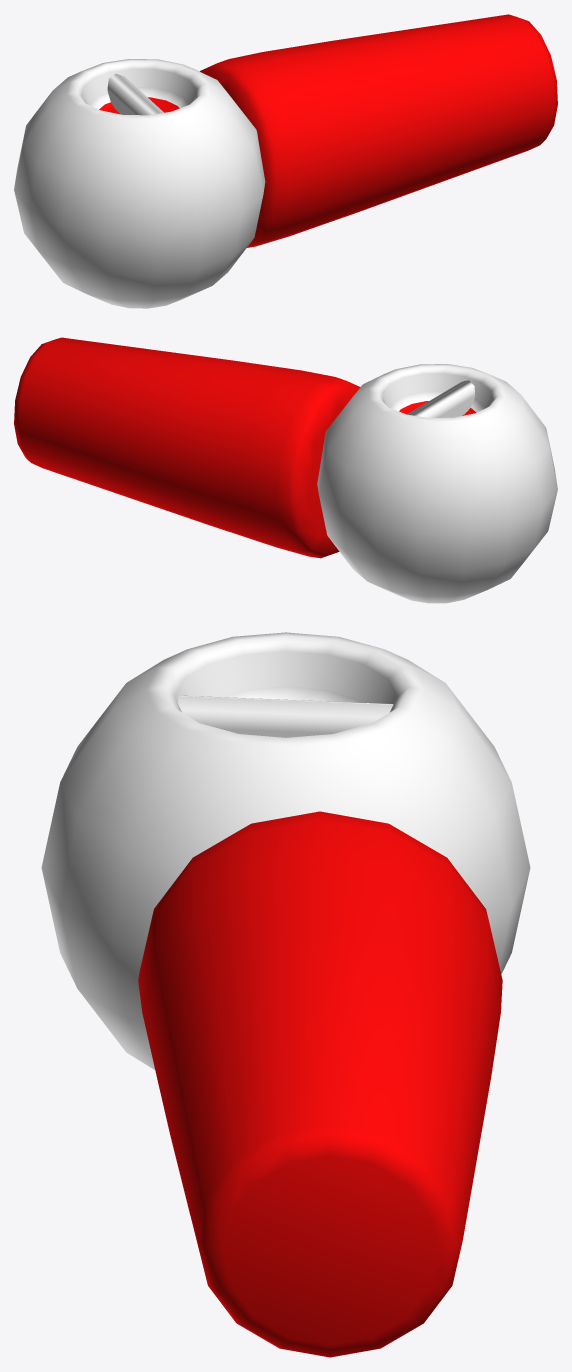
Rendered from Roboy_UpperArm.fbx.
3 views of the same model, one above another, from view 1: azimuth 30°, elevation 25°; view 2: azimuth 150°, elevation 25°; view 3: azimuth 270°, elevation 25° (orthographic). The views are drawn at different scales.
Parts seen in each view (by area): view 1: Robot01_UpperArm; view 2: Robot01_UpperArm; view 3: Robot01_UpperArm.
Part boxes in pixels (bbox=[...]): Robot01_UpperArm: bbox=[14, 14, 557, 308]; Robot01_UpperArm: bbox=[14, 337, 557, 603]; Robot01_UpperArm: bbox=[41, 632, 530, 1357].
Bounding box in the file's own units: 33.8 × 13.2 × 14.54.
